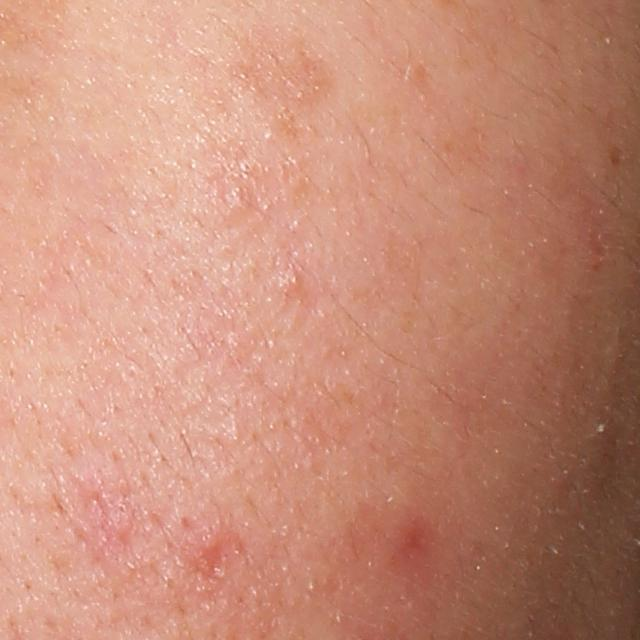comedo: (274, 263, 306, 298)
papule: (199, 530, 222, 557)
